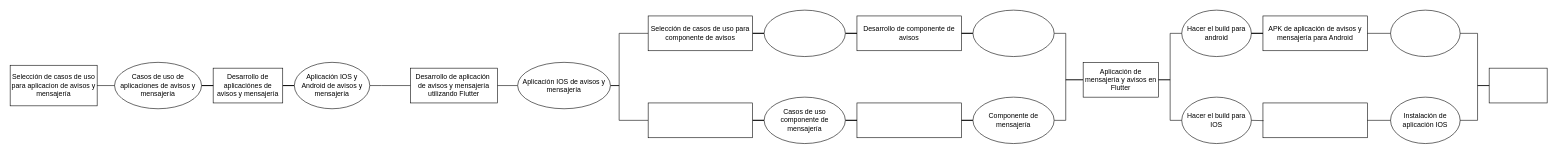
Image size: 1557x154. Some labels were removed from this diagram. Each missing label, with the centre of its shape:
Archivo .IPA de aplicación de avisos y mensajería para IOS: pixel 1314 120
Casos de uso componente avisos: pixel 804 33
Componente de avisos: pixel 1013 33
Desarrollo de componente de mensajería: pixel 908 120
Instalación de aplicación Android: pixel 1425 33
Integración: pixel 1518 85
Selección de casos de uso para componente de mensajería: pixel 700 120
